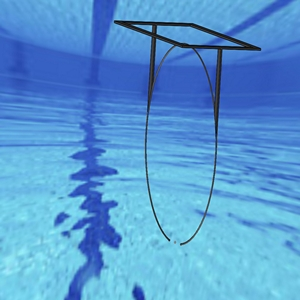circle: (112, 17, 264, 245)
